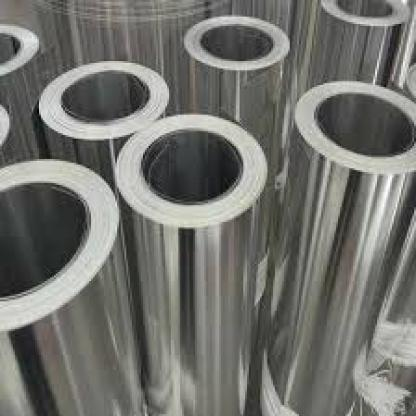METAL: (268, 78, 414, 414), (115, 111, 269, 414), (0, 155, 147, 414), (180, 13, 288, 353), (31, 57, 172, 187), (310, 0, 405, 89), (0, 22, 43, 172)
